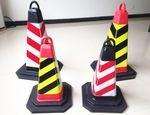cone_barrel: (94, 3, 130, 72), (31, 36, 65, 106), (84, 36, 119, 103), (19, 2, 46, 70)
